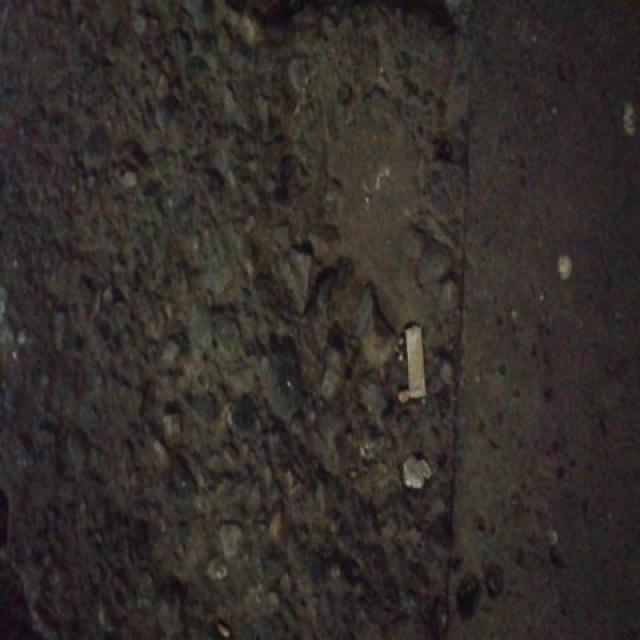non-organic waste: (401, 317, 431, 406)
